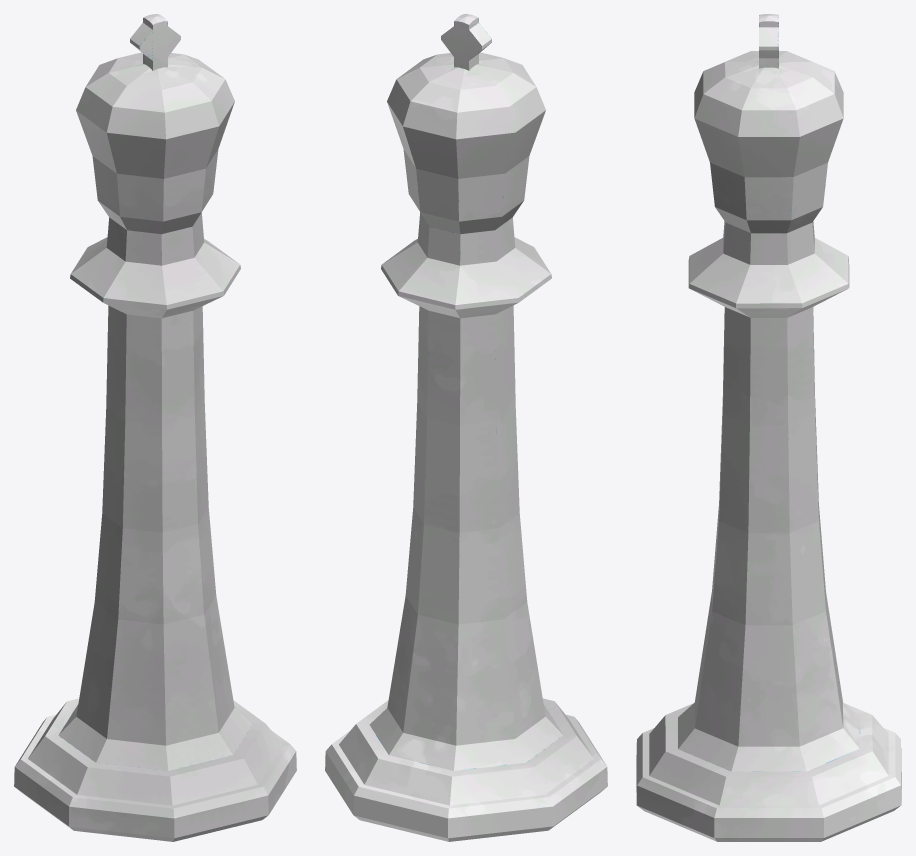
The model's file is King.fbx.
The picture shows the model from 3 angles, left to right: view 1: azimuth 30°, elevation 25°; view 2: azimuth 150°, elevation 25°; view 3: azimuth 270°, elevation 25°; orthographic projection.
Visible parts, largest first — view 1: node_id26; view 2: node_id26; view 3: node_id26.
Boxes of the visible parts, bbox=[...] form: node_id26: bbox=[14, 14, 296, 841]; node_id26: bbox=[325, 14, 607, 841]; node_id26: bbox=[636, 14, 901, 841].
Bounding box in the file's own units: 212 × 681 × 212.
